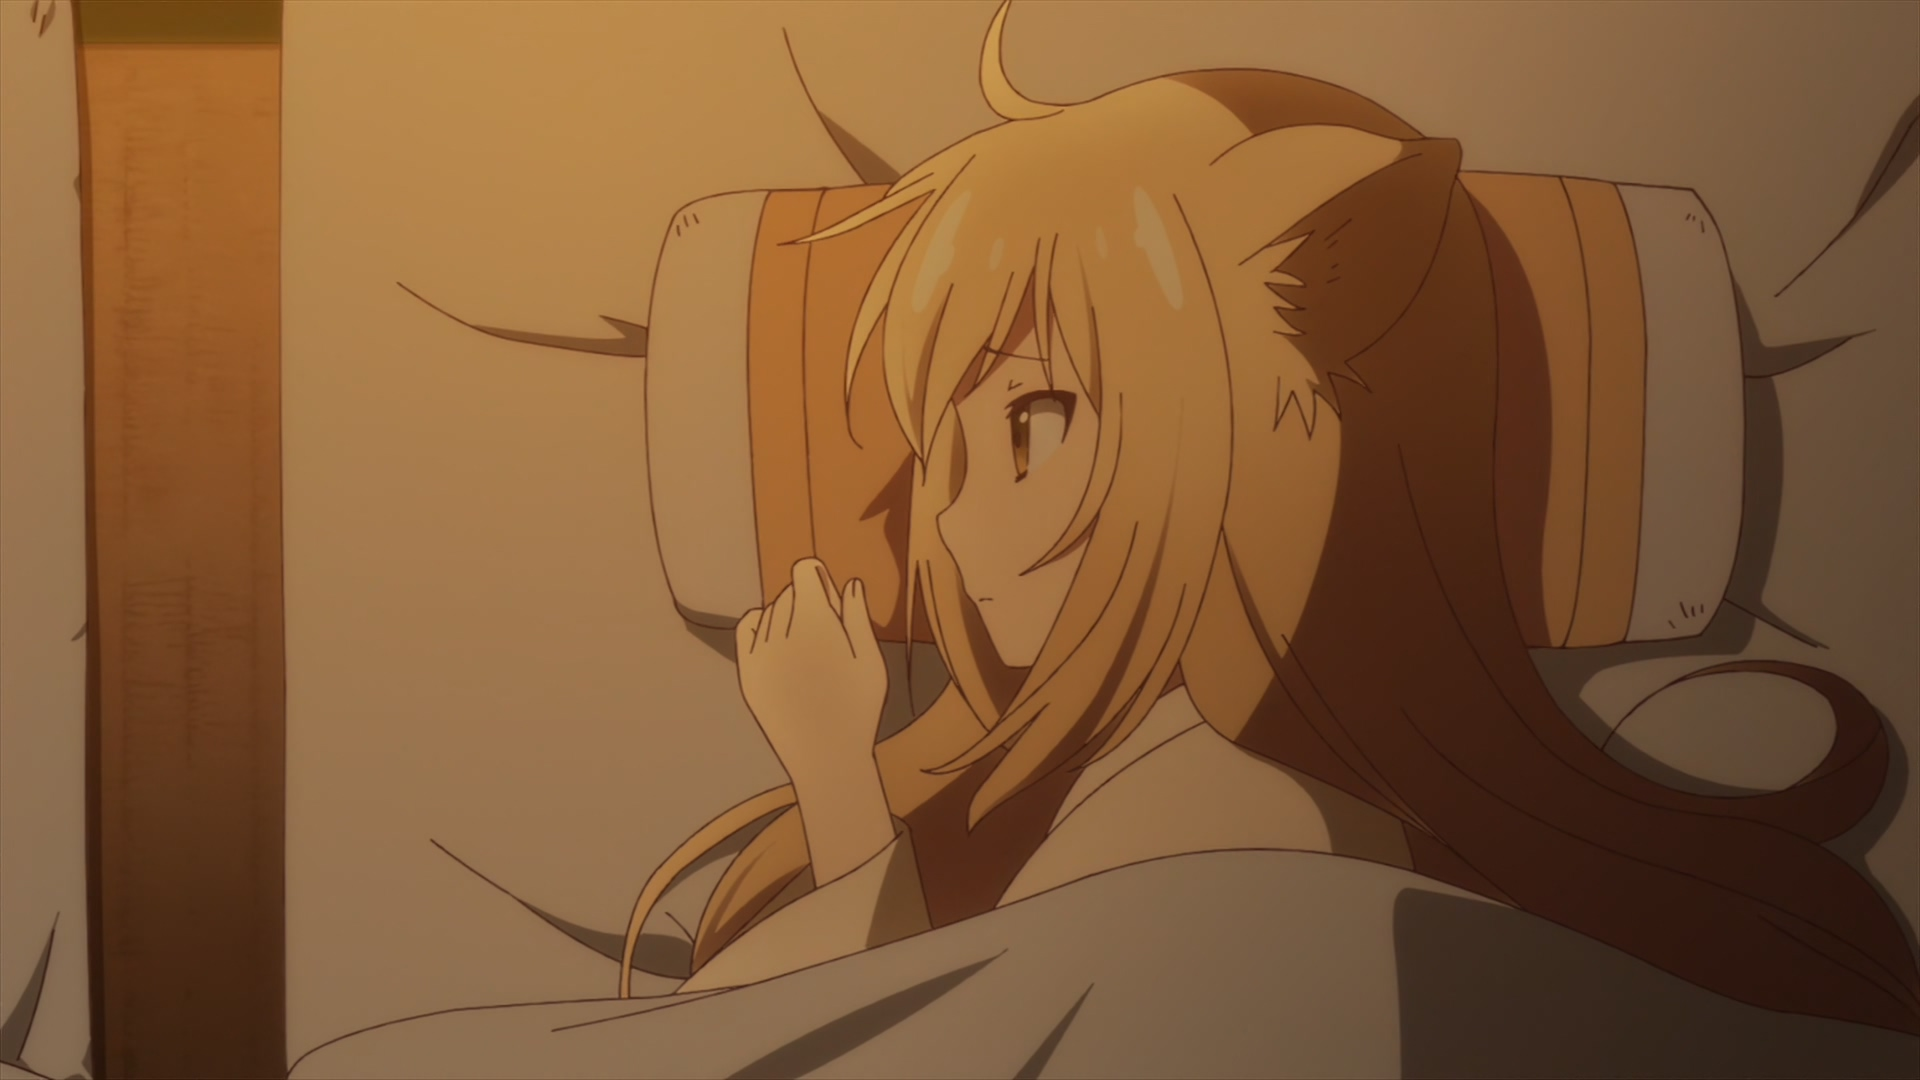柚: (618, 1, 1920, 1031)
